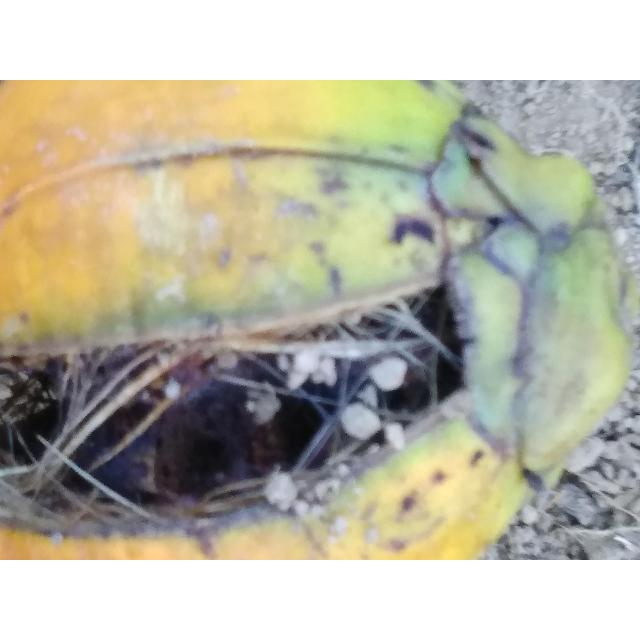damaged: (0, 80, 640, 560)
